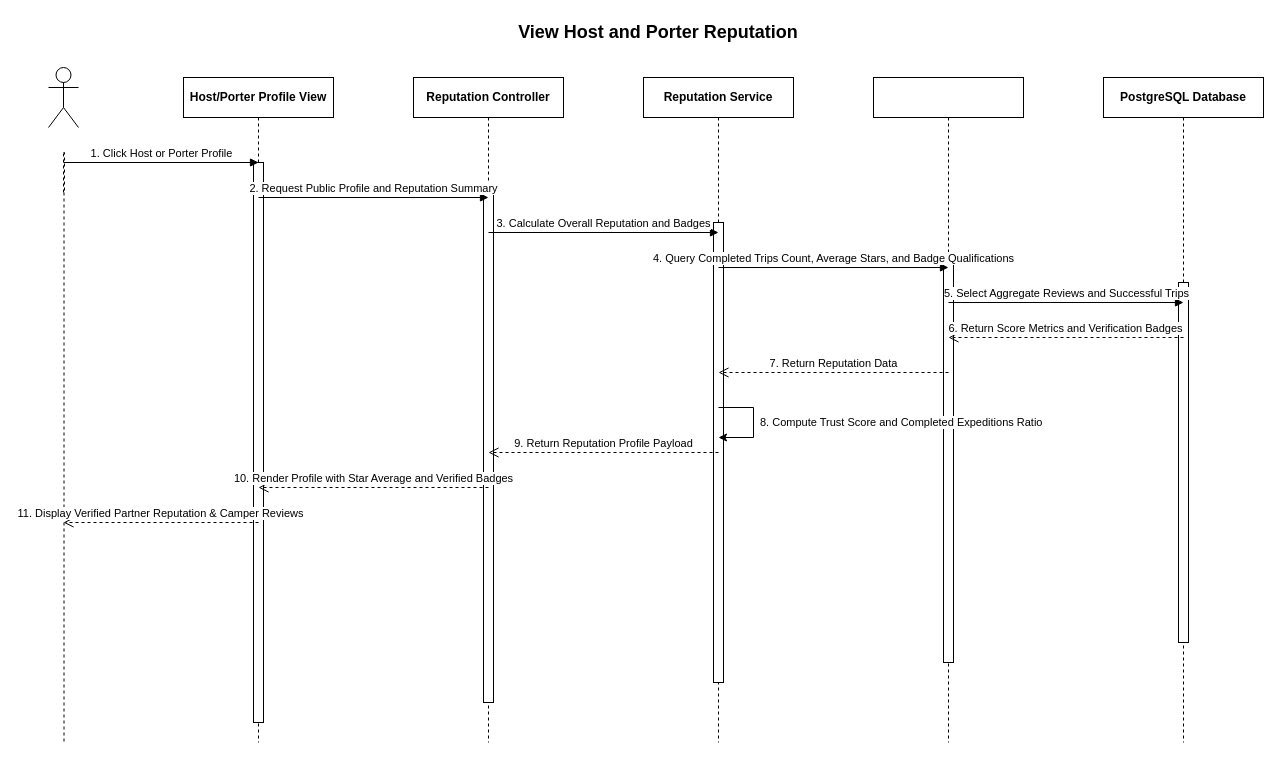
Image size: 1281x760. Some labels were removed from this diagram. Here are the shapes that lost their labels. From the top down, the centre of each, then its label:
the point at 63,97: Camper
the point at 948,409: User Reputation Model
